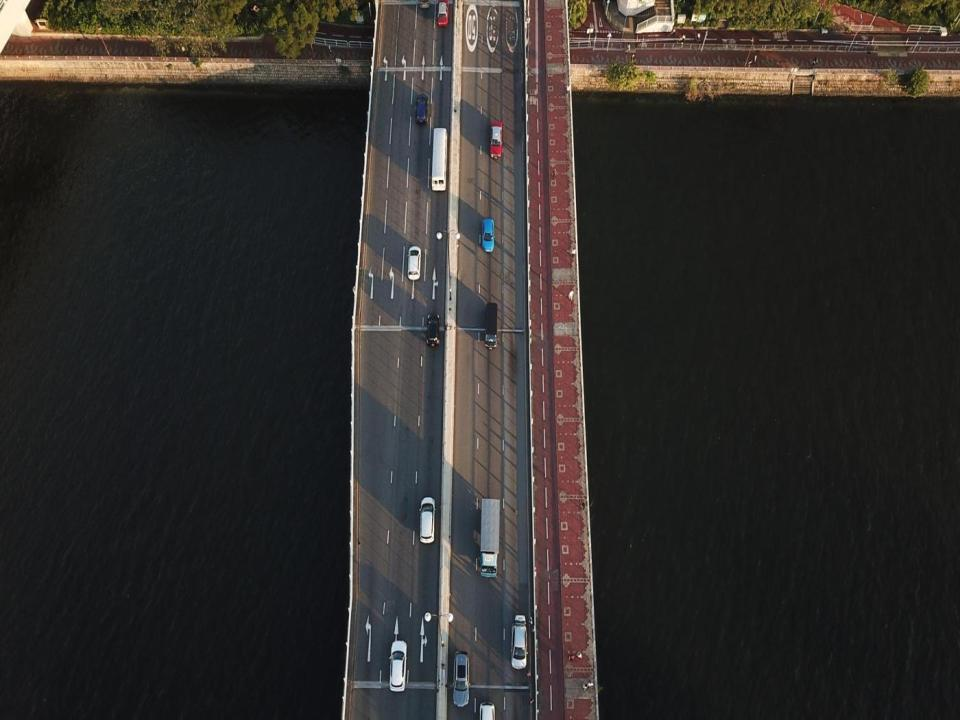bus: (433, 128, 446, 190)
car: (452, 651, 470, 706), (390, 640, 407, 694), (511, 615, 527, 669), (420, 497, 434, 543), (490, 121, 503, 158), (427, 313, 440, 347), (408, 244, 420, 280), (482, 218, 494, 253), (416, 94, 427, 123), (437, 0, 448, 26)
truck: (480, 498, 499, 579)
van: (485, 302, 498, 349)
